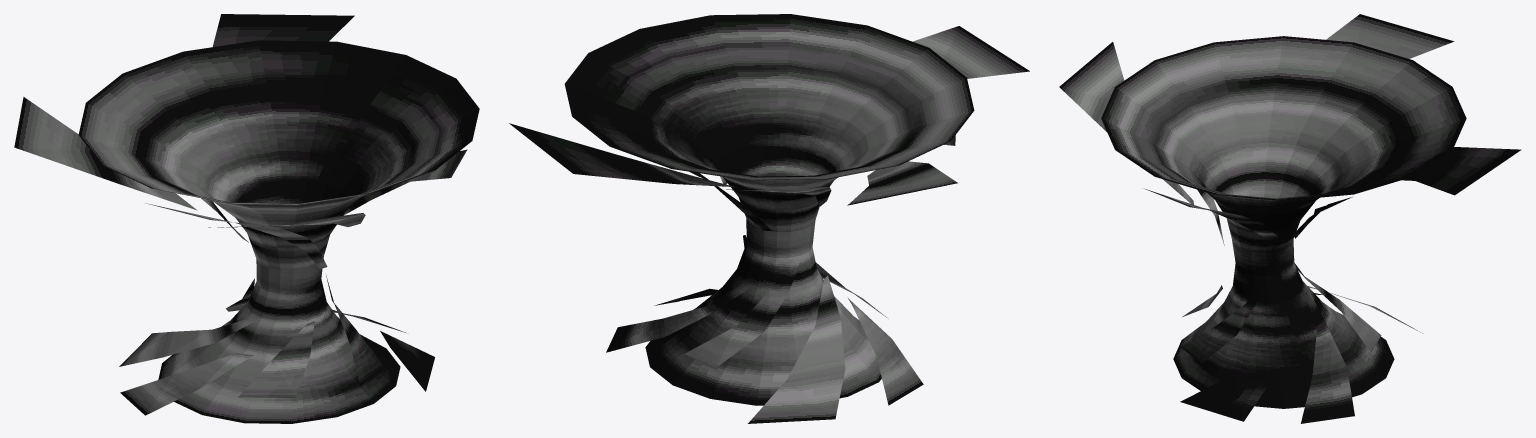
Rendered from tornado.obj.
The picture shows the model from 3 angles, left to right: view 1: azimuth 30°, elevation 25°; view 2: azimuth 150°, elevation 25°; view 3: azimuth 270°, elevation 25°; orthographic projection. The views are drawn at different scales.
Visible parts, largest first — view 1: Object_1; view 2: Object_1; view 3: Object_1.
Boxes of the visible parts, x1=… form: Object_1: x1=14, y1=14, x2=479, y2=423; Object_1: x1=509, y1=14, x2=1029, y2=423; Object_1: x1=1059, y1=14, x2=1521, y2=423.
Size of the model in its own units: 120 by 72 by 126.
Materials: 1 (1 with a texture image).
